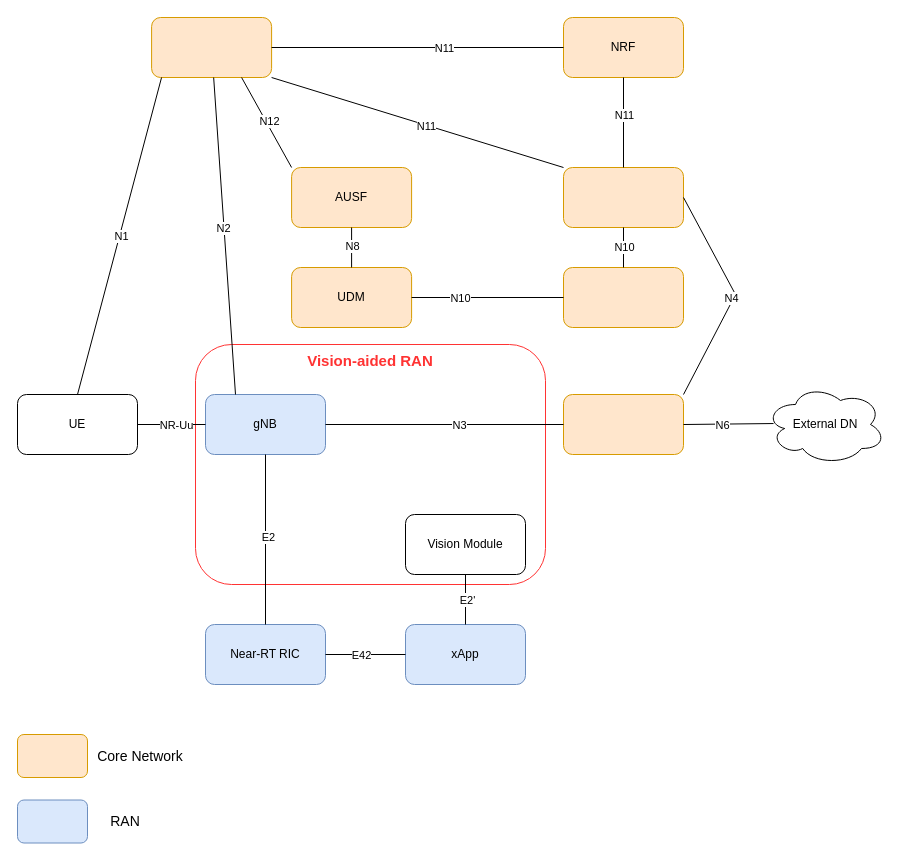
This 903x861 diagram has some shape labels left out. The shapes that lost their labels are listed below. From the top down, each one's centre as x and y in pixels, then its label:
At point 211,47: "AMF".
At point 623,197: "SMF".
At point 623,297: "UDR".
At point 623,424: "UPF".
